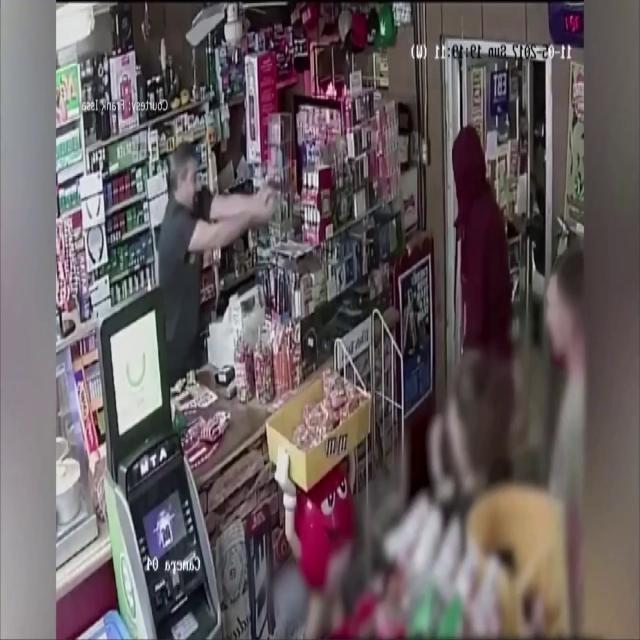weapon: (267, 178, 297, 197)
